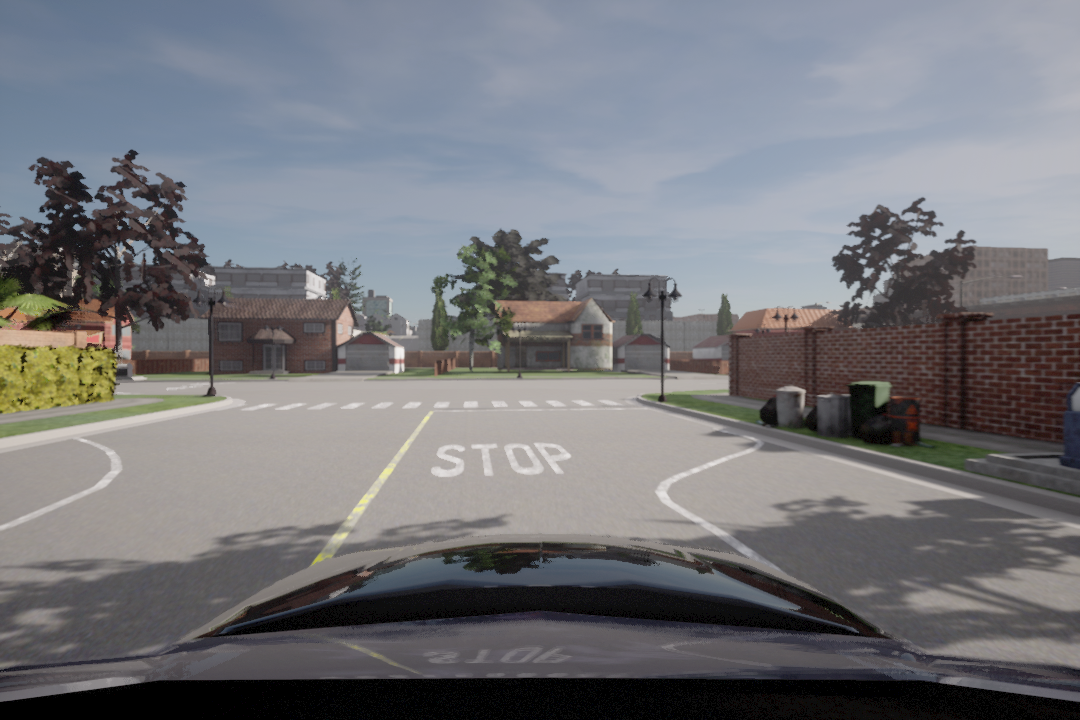walkside: (240, 397, 650, 412)
